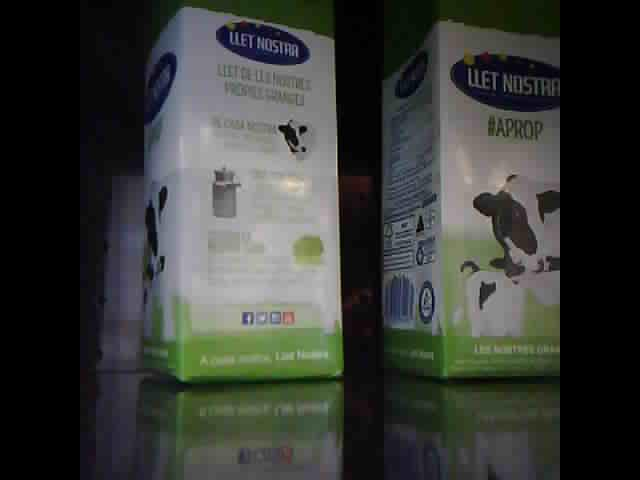leche: (138, 5, 338, 387), (379, 3, 561, 383)
